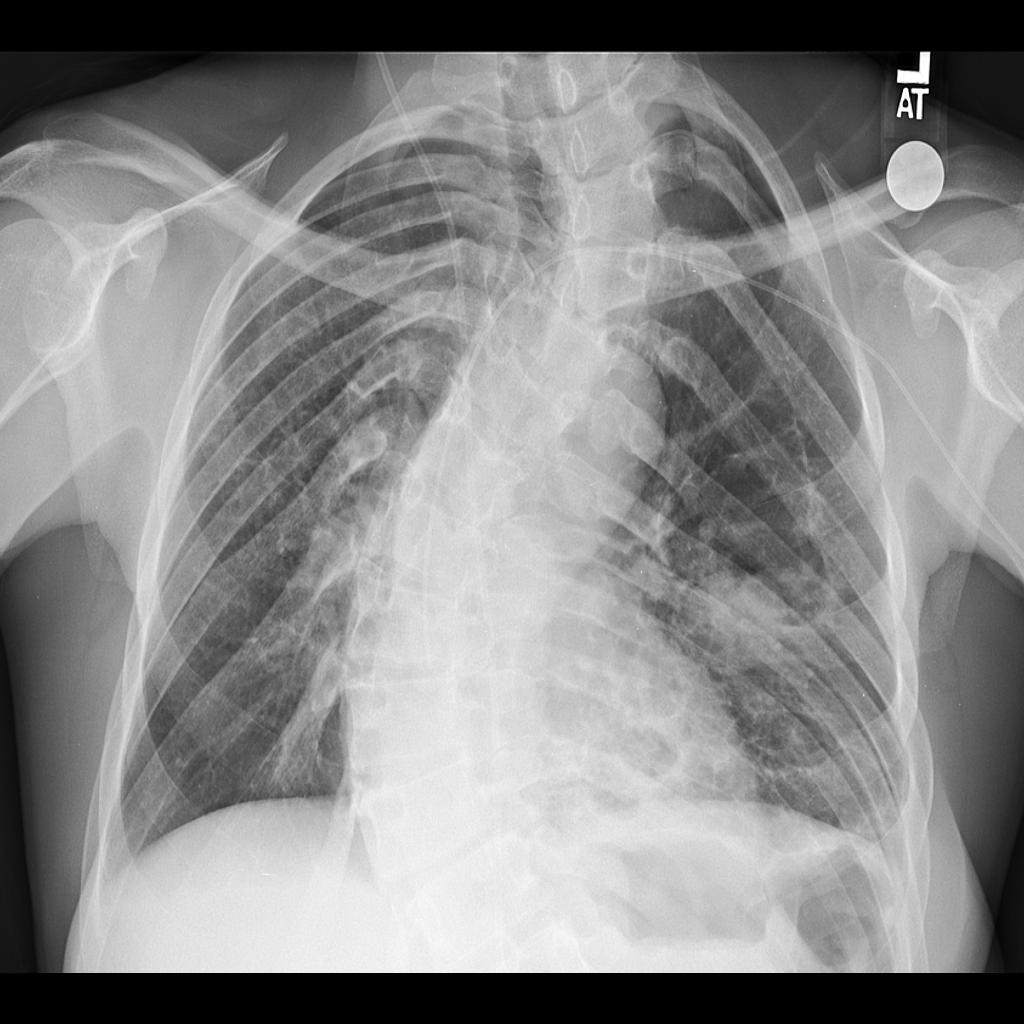Nodule: (730, 586, 783, 662)
